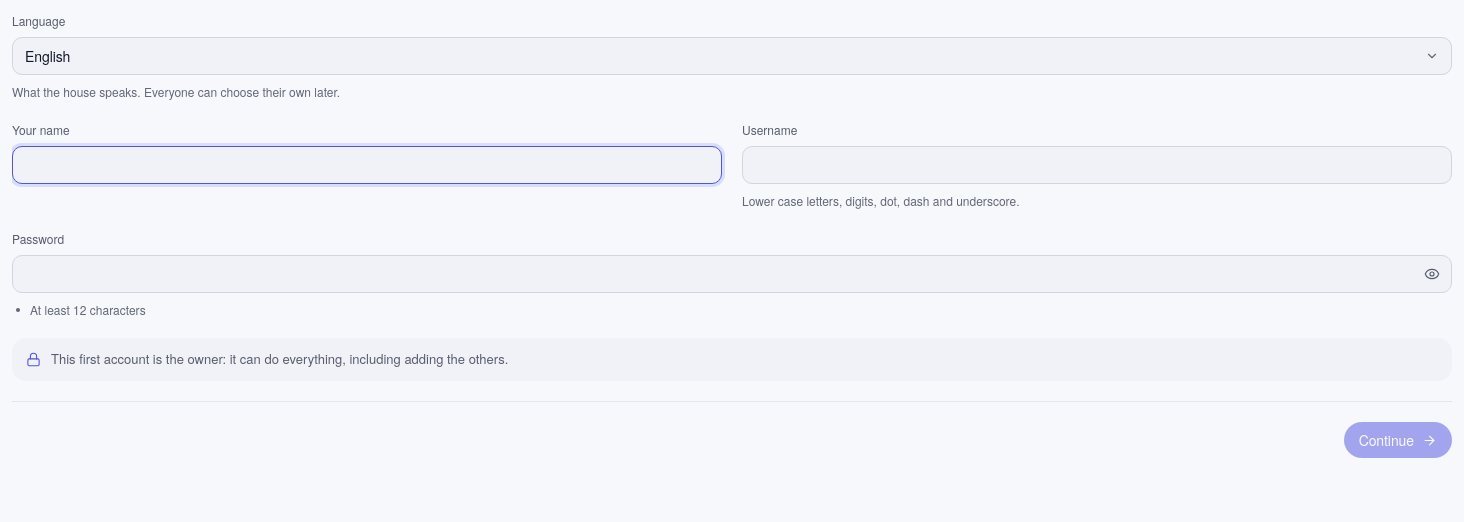
Test: FirstRunForm › asks for the account first, and continues once it would be accepted
Expected: the button "Continue" is disabled, [1344, 422, 1452, 458]
In the field labelled "Your name": (367, 165) [12, 146, 722, 184], type "Mattia Carli"
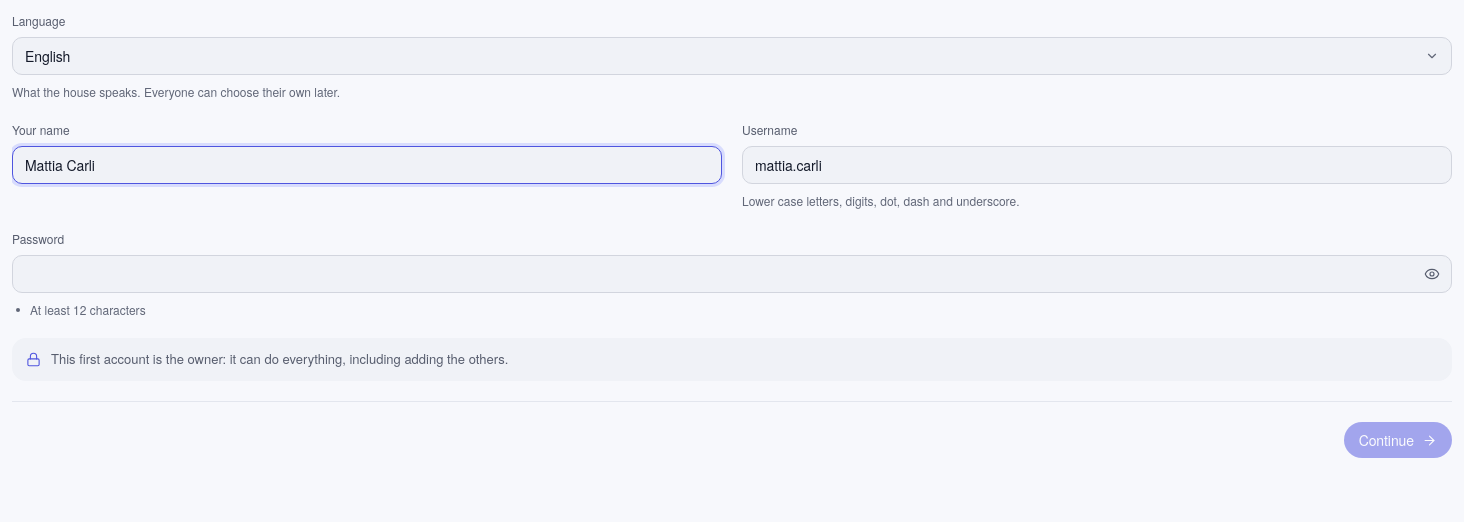
Expected: the field labelled "Username" holds "mattia.carli", [742, 146, 1452, 184]
In the password field labelled "Password": (732, 274) [12, 255, 1452, 293], type "correct horse battery"
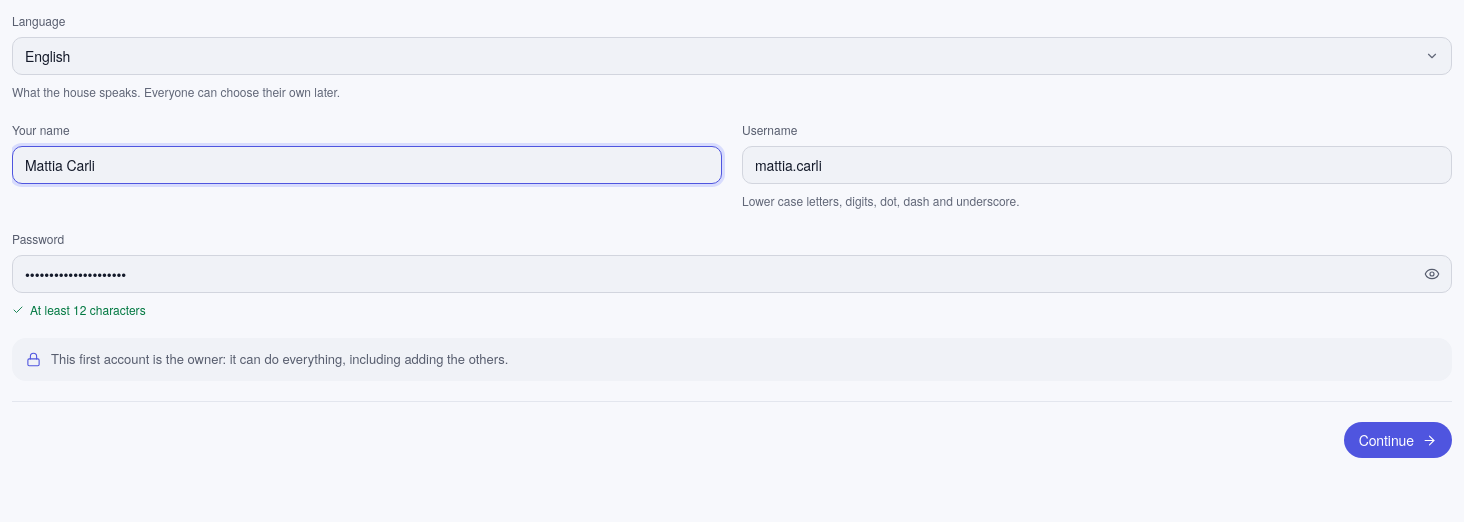
Click the button "Continue": (1398, 440) [1344, 422, 1452, 458]
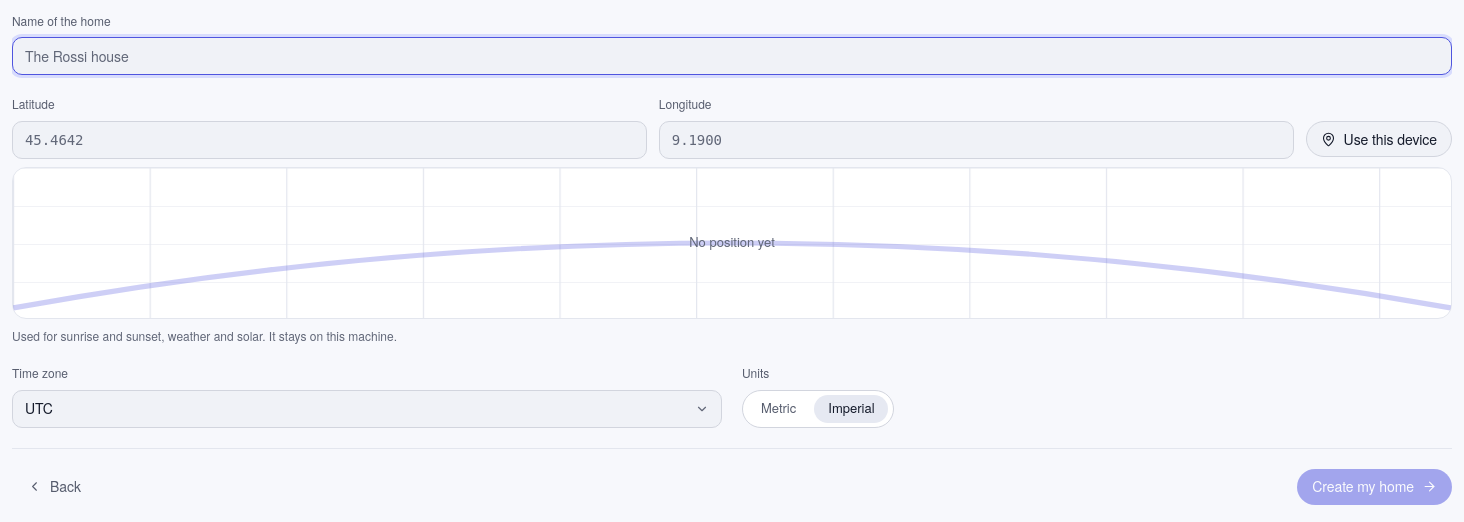
Expected: the field labelled "Name of the home" is shown, [12, 37, 1452, 75]
